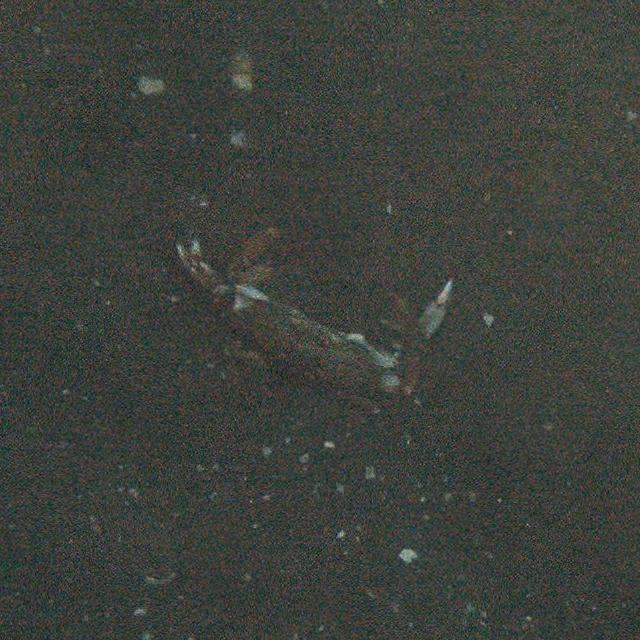crab: (165, 230, 456, 408)
